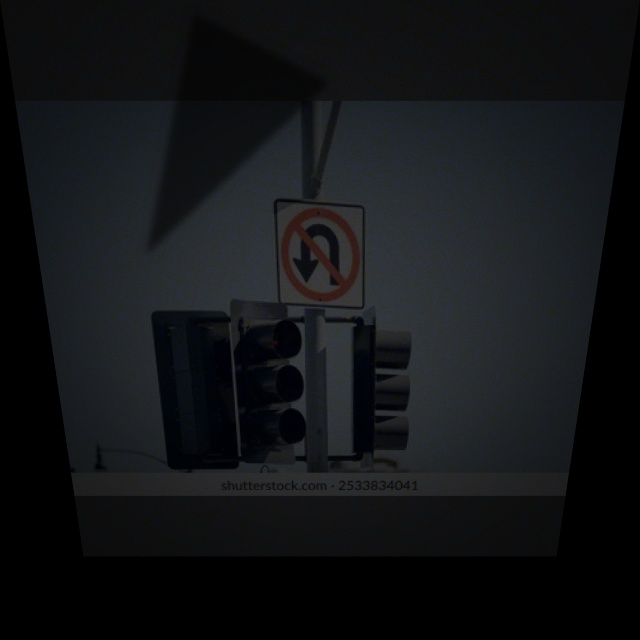U_Turn_Prohibited: (276, 200, 371, 305)
